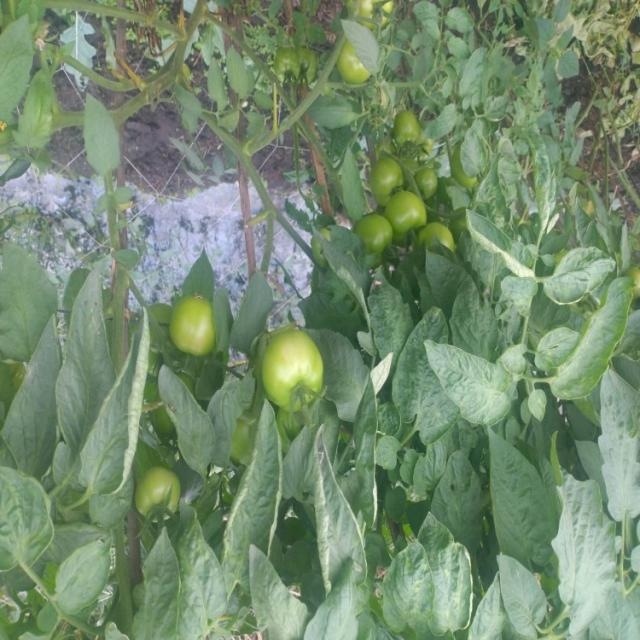tomato: (254, 319, 346, 414), (168, 288, 233, 359), (122, 459, 192, 519), (336, 212, 404, 269), (378, 193, 436, 233), (363, 154, 399, 210), (332, 46, 368, 93), (411, 214, 457, 250), (353, 1, 411, 29), (388, 111, 422, 152), (272, 55, 312, 88), (298, 50, 318, 84)
